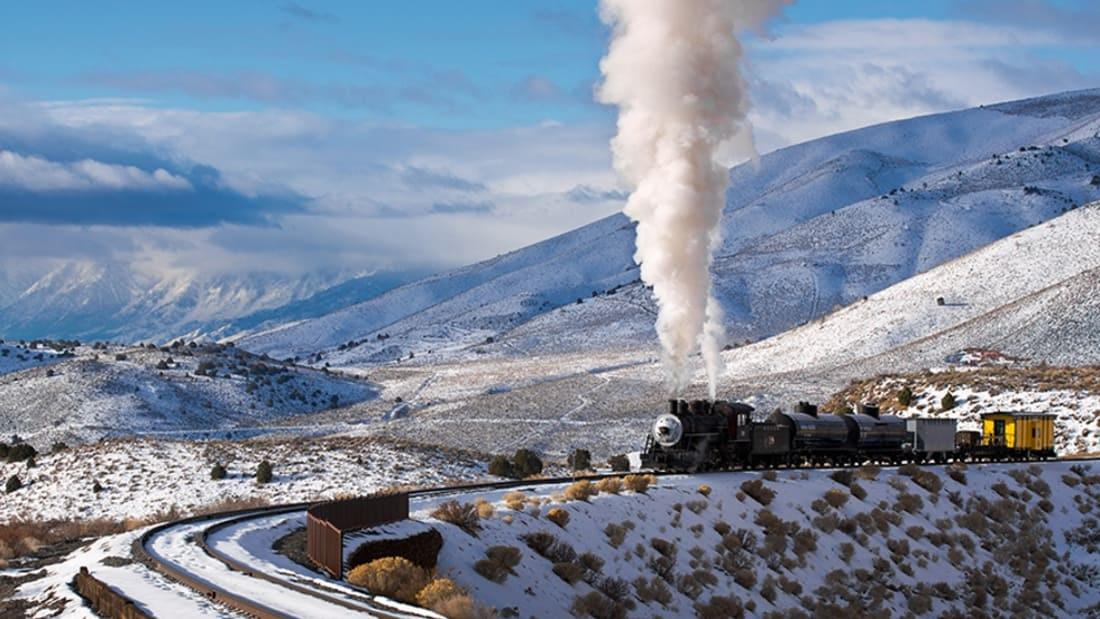smoke: (632, 27, 728, 275)
